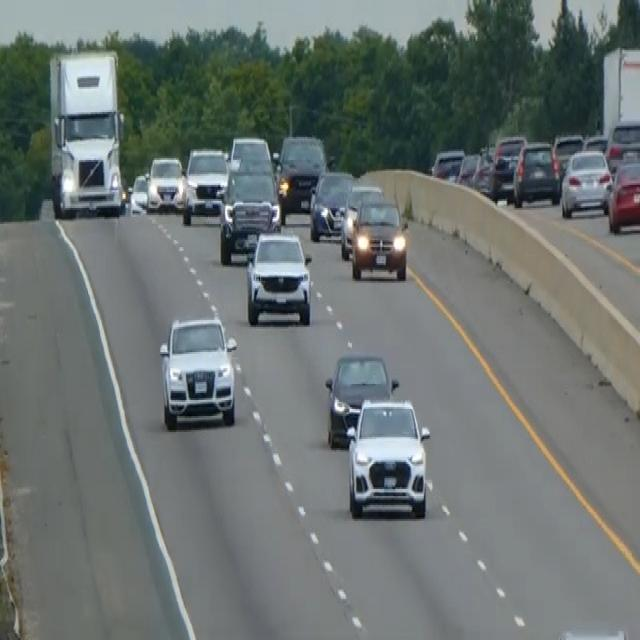car: (345, 395, 430, 519), (158, 313, 237, 430), (324, 350, 398, 448), (244, 228, 313, 326), (218, 165, 281, 263), (350, 195, 408, 281), (275, 132, 327, 212), (182, 144, 229, 224), (560, 146, 612, 218), (339, 181, 383, 258), (308, 167, 353, 242), (512, 139, 561, 206), (606, 156, 639, 233), (489, 133, 526, 201), (146, 153, 185, 211), (605, 118, 639, 174), (227, 134, 272, 174), (552, 132, 584, 174), (430, 146, 464, 181), (470, 150, 494, 196), (455, 149, 480, 187), (128, 171, 149, 213)
lorry: (47, 48, 126, 219)
